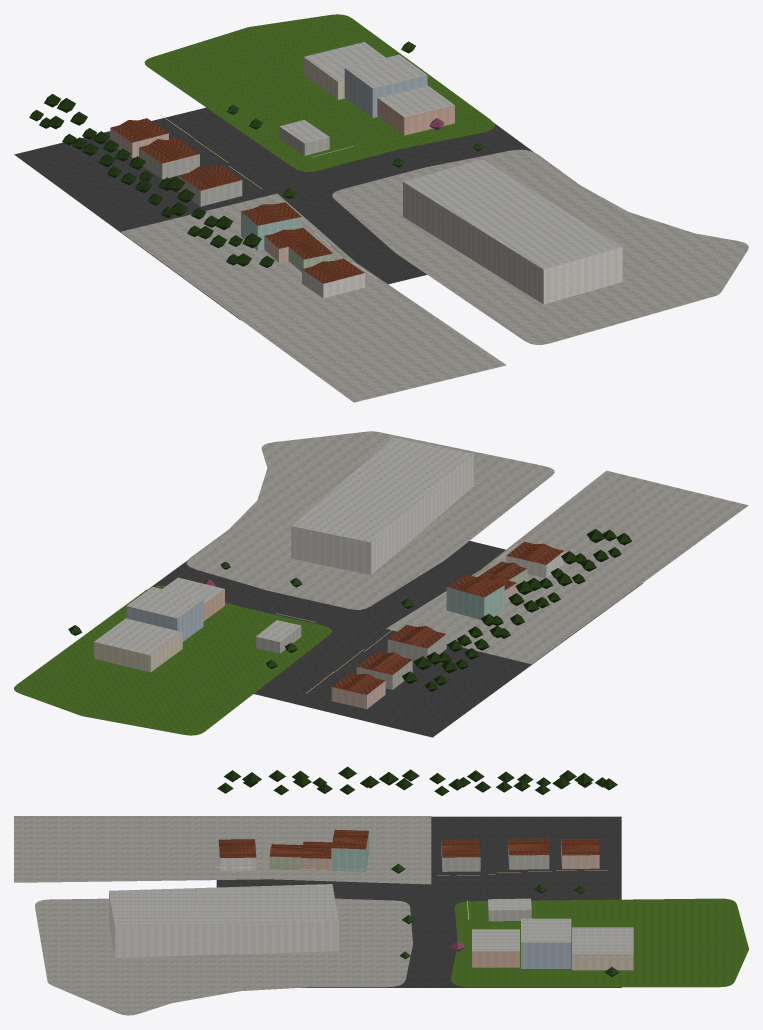
File: cidade_S00_03_lod.gltf
The picture shows the model from 3 angles, top to bottom: view 1: azimuth 30°, elevation 25°; view 2: azimuth 150°, elevation 25°; view 3: azimuth 270°, elevation 25°; orthographic projection. The views are drawn at different scales.
Parts seen in each view (by area): view 1: S00_03_Chao_LOD2, S00_03_Edificios_LOD1, S00_03_Silhueta_LOD2, S00_03_Vegetacao_LOD2; view 2: S00_03_Chao_LOD2, S00_03_Edificios_LOD1, S00_03_Silhueta_LOD2, S00_03_Vegetacao_LOD2; view 3: S00_03_Chao_LOD2, S00_03_Edificios_LOD1, S00_03_Silhueta_LOD2, S00_03_Vegetacao_LOD2.
Part boxes in pixels (left/top/right/bottom): S00_03_Chao_LOD2: left=14, top=14, right=748, bottom=402; S00_03_Edificios_LOD1: left=110, top=42, right=622, bottom=304; S00_03_Silhueta_LOD2: left=110, top=118, right=364, bottom=298; S00_03_Vegetacao_LOD2: left=29, top=41, right=483, bottom=267; S00_03_Chao_LOD2: left=14, top=431, right=748, bottom=737; S00_03_Edificios_LOD1: left=94, top=437, right=563, bottom=709; S00_03_Silhueta_LOD2: left=331, top=541, right=564, bottom=708; S00_03_Vegetacao_LOD2: left=68, top=529, right=631, bottom=691; S00_03_Chao_LOD2: left=14, top=816, right=748, bottom=1015; S00_03_Edificios_LOD1: left=109, top=834, right=633, bottom=970; S00_03_Silhueta_LOD2: left=218, top=829, right=599, bottom=871; S00_03_Vegetacao_LOD2: left=217, top=766, right=619, bottom=976.
Size of the model in its own units: 117 by 15.99 by 181.
20 materials, 20 textured.
